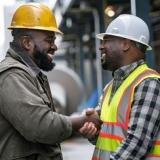Helmet: (95, 13, 154, 51), (8, 2, 64, 36)
Vest: (90, 63, 160, 160)
